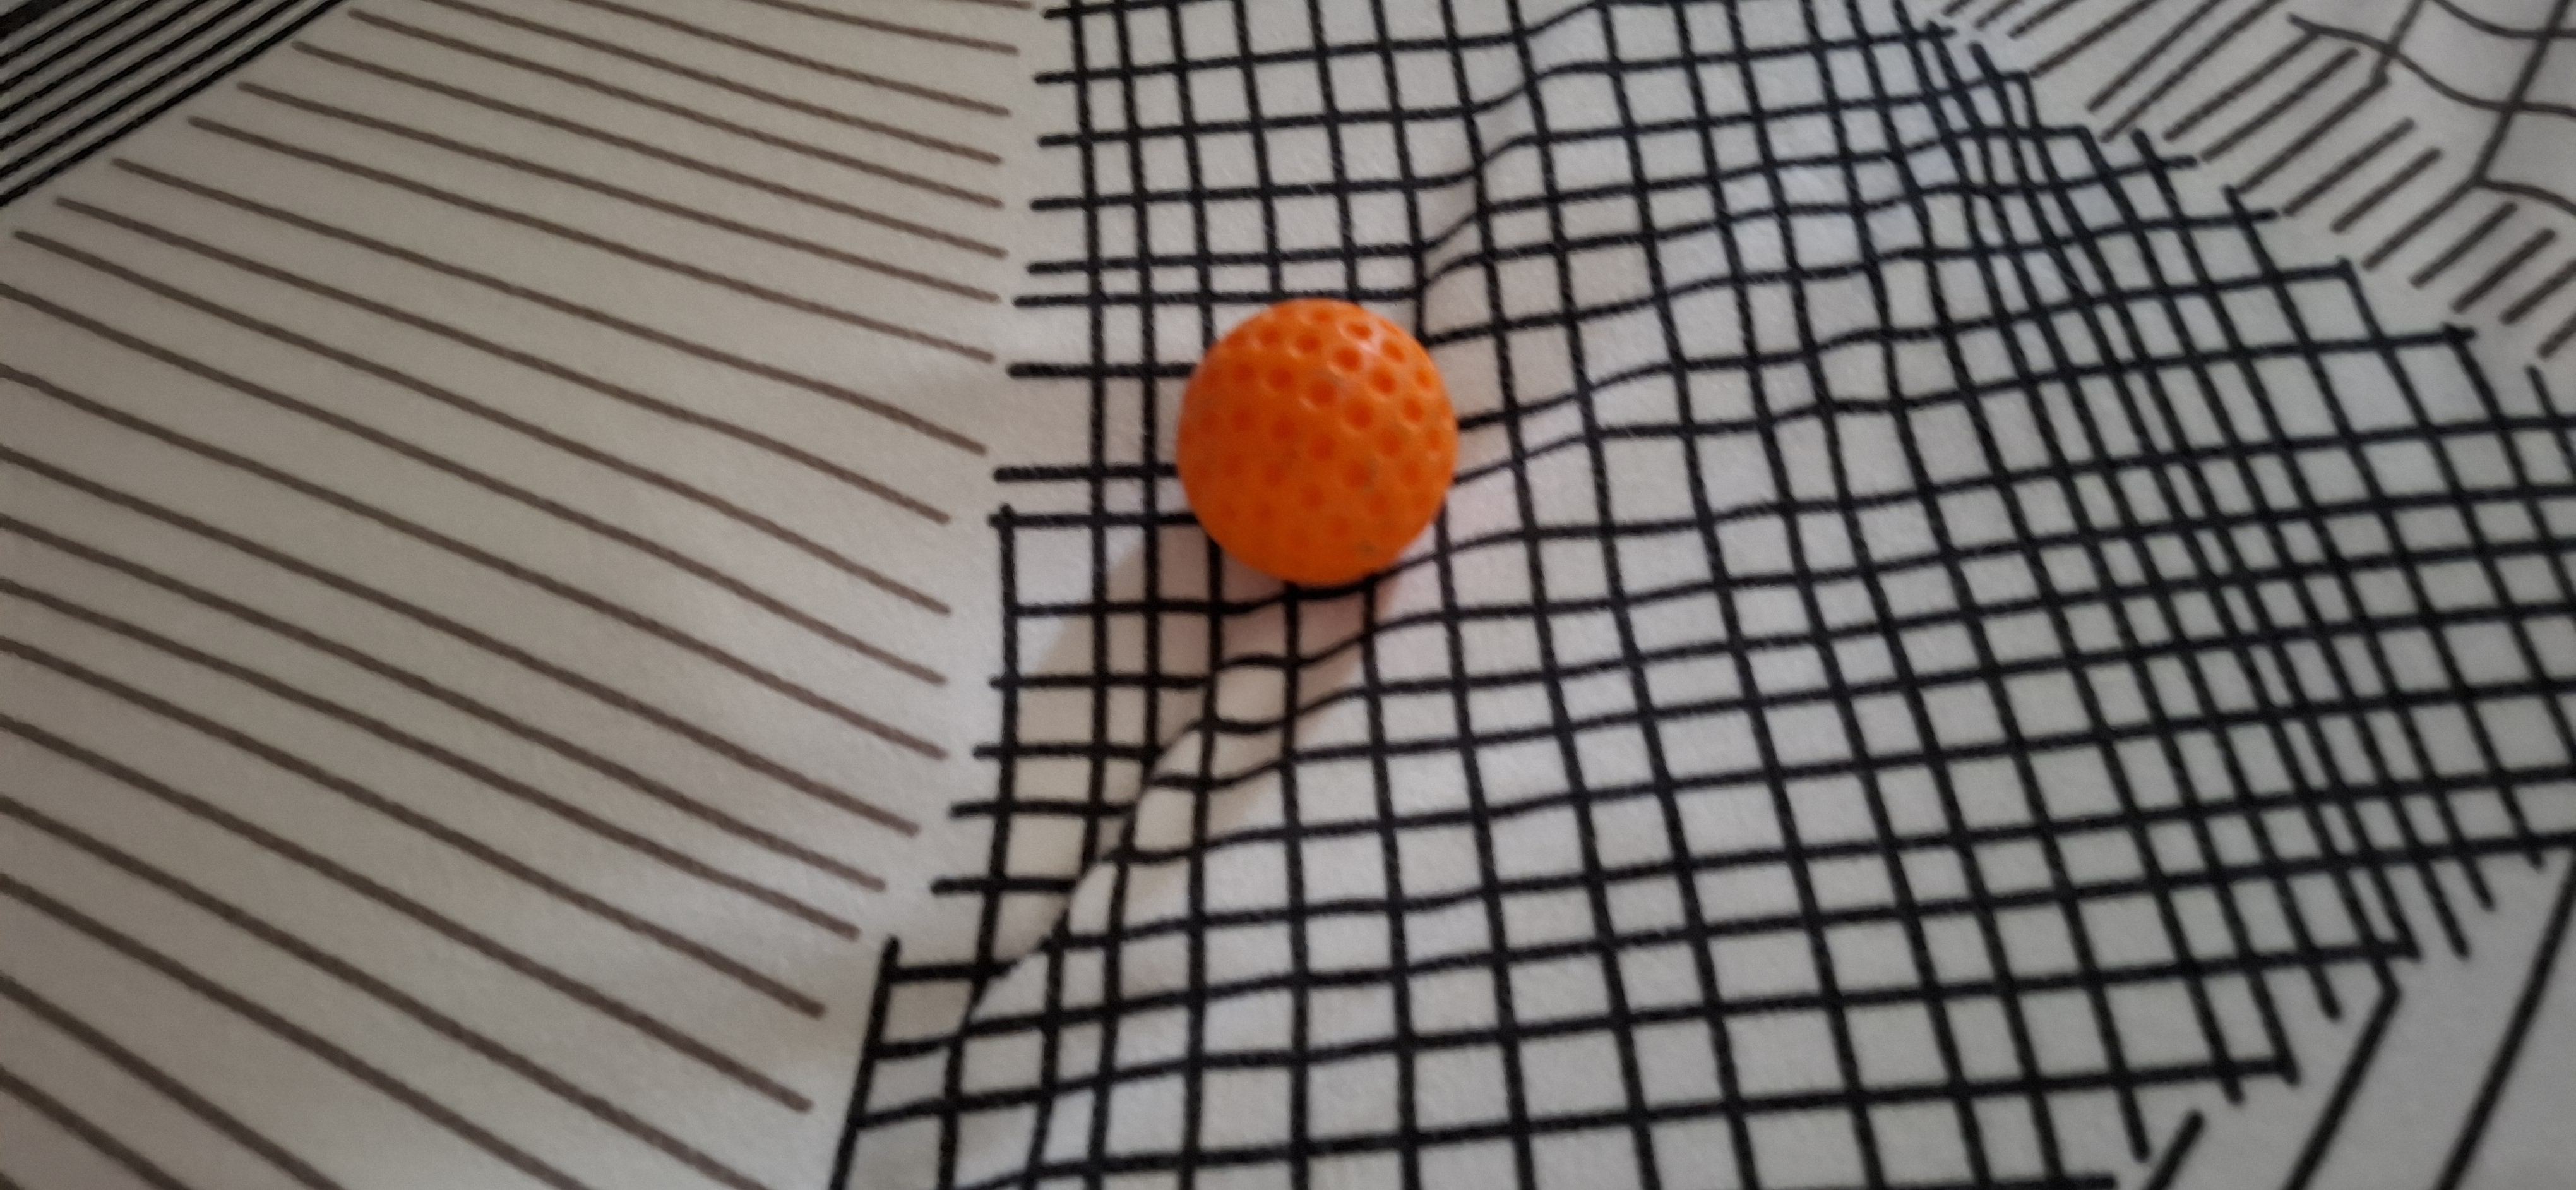ball: (1176, 286, 1470, 595)
